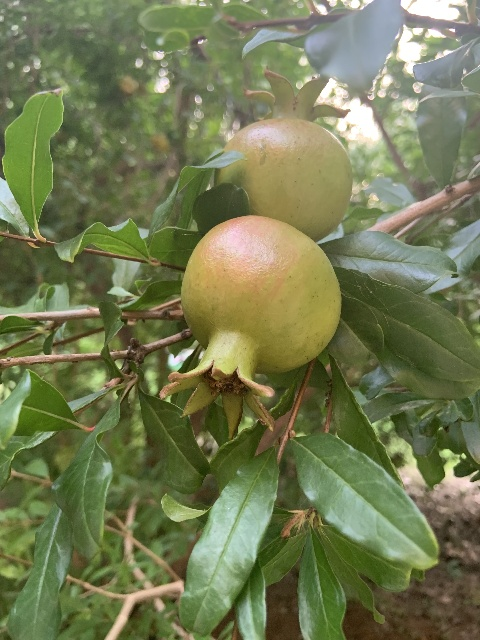mid-growth: (159, 214, 341, 438), (212, 65, 351, 241)
